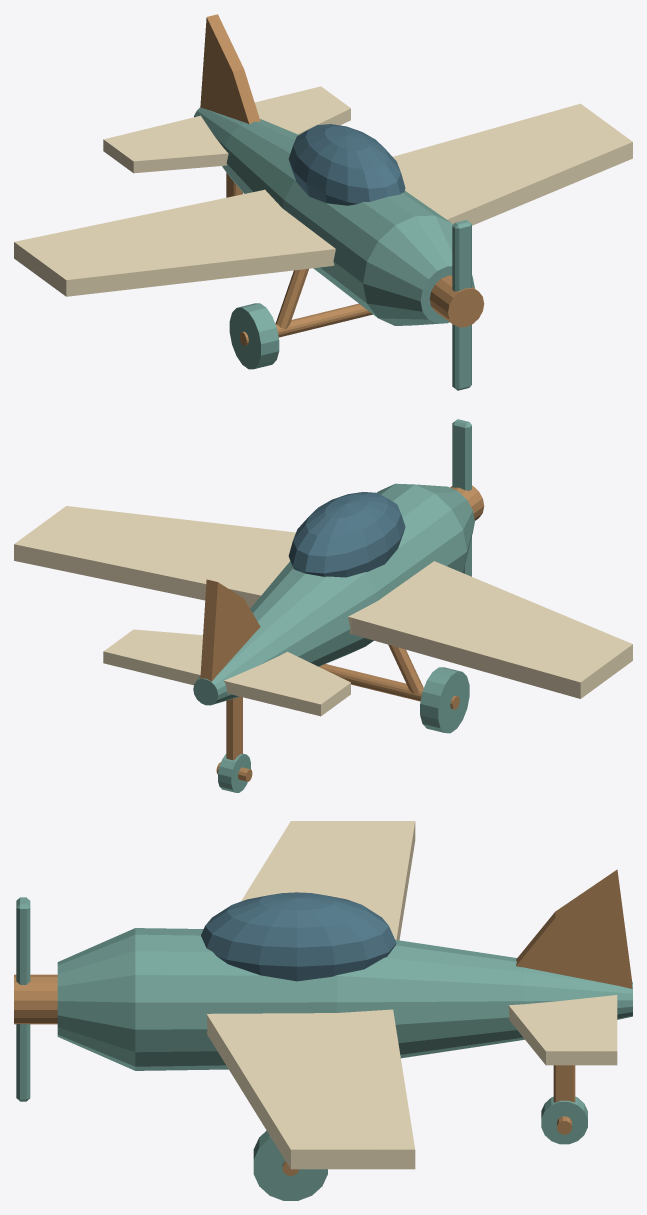
The picture shows the model from 3 angles, top to bottom: view 1: azimuth 30°, elevation 25°; view 2: azimuth 150°, elevation 25°; view 3: azimuth 270°, elevation 25°; orthographic projection. The views are drawn at different scales.
Visible parts, largest first — view 1: aviation-small-plane-01; view 2: aviation-small-plane-01; view 3: aviation-small-plane-01.
Part boxes in pixels (left/top/right/bottom): aviation-small-plane-01: left=14, top=14, right=632, bottom=390; aviation-small-plane-01: left=14, top=419, right=632, bottom=792; aviation-small-plane-01: left=14, top=821, right=632, bottom=1200.
Size of the model in its own units: 2.5 by 0.95 by 1.99.
